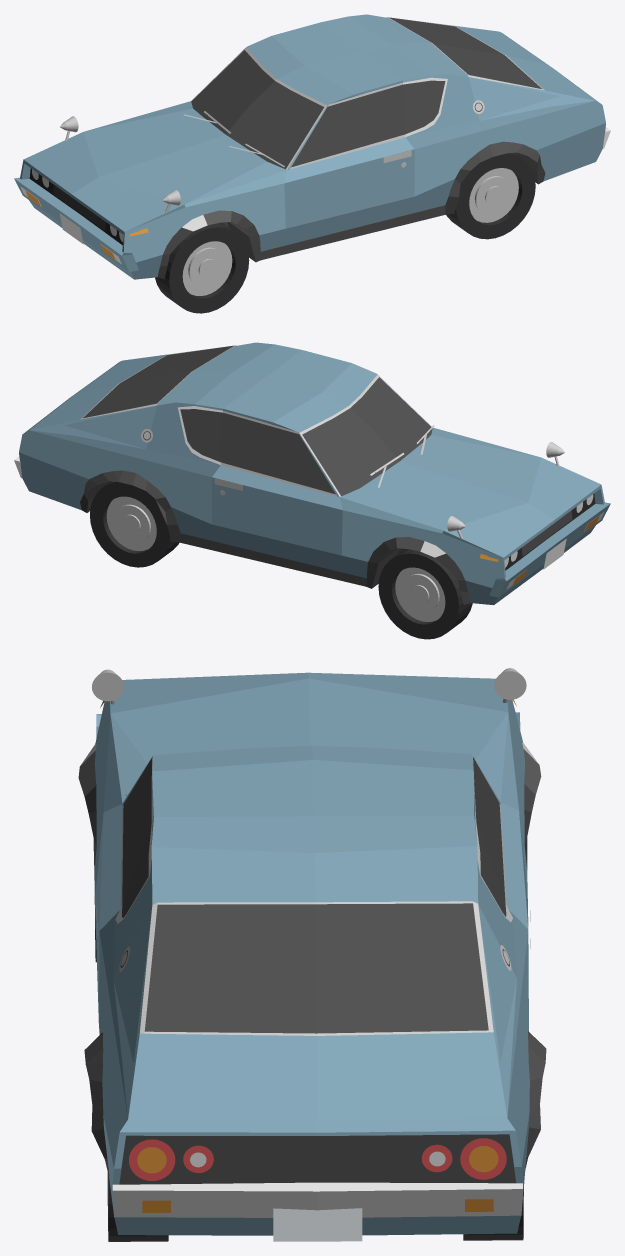
Rendered from bluecar.glb.
The picture shows the model from 3 angles, top to bottom: view 1: azimuth 30°, elevation 25°; view 2: azimuth 150°, elevation 25°; view 3: azimuth 270°, elevation 25°; orthographic projection. The views are drawn at different scales.
Size of the model in its own units: 4.61 by 1.51 by 1.89.
